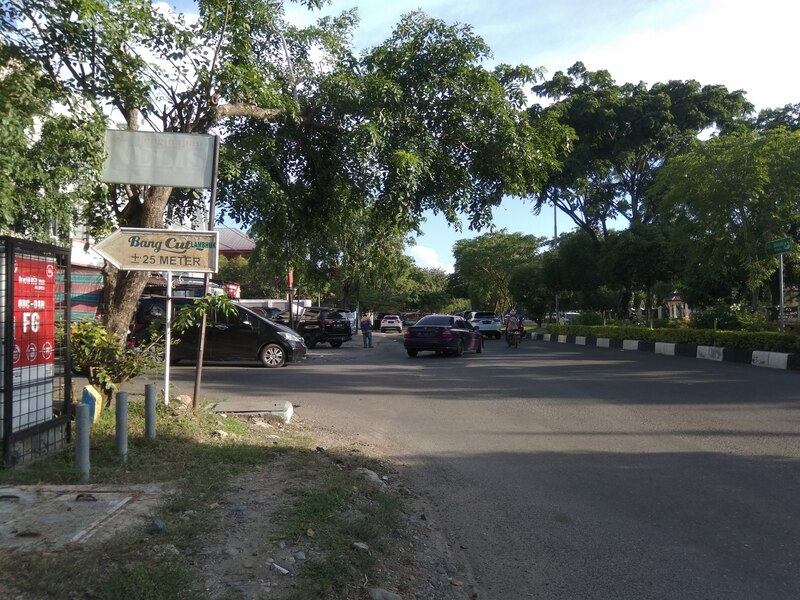car: (124, 290, 315, 372), (404, 311, 489, 367)
